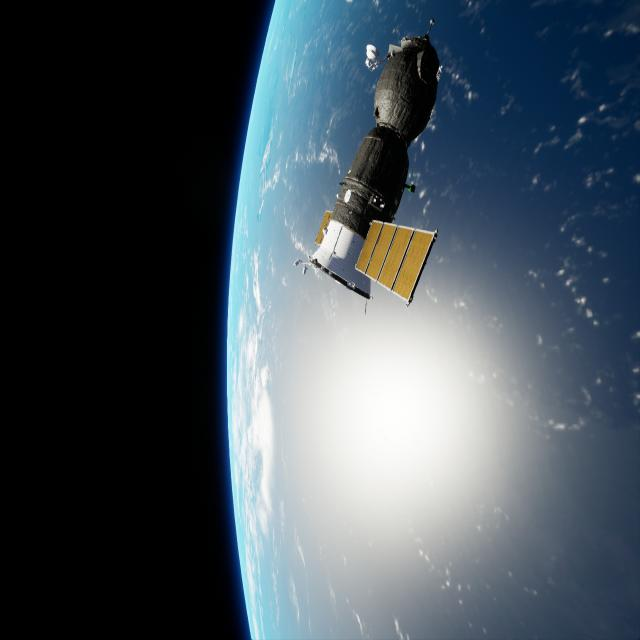Satellites revolving around earth: (293, 25, 445, 314)
